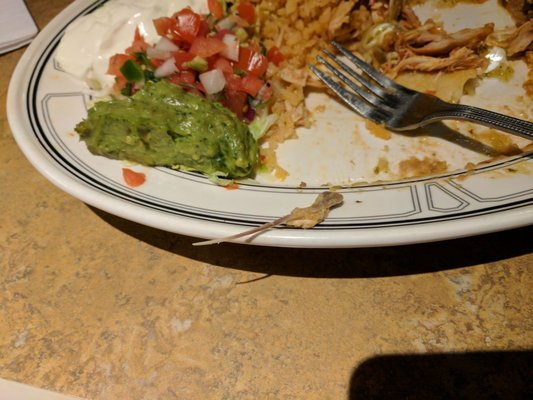burger: (308, 41, 533, 147)
curry: (75, 76, 260, 180)
